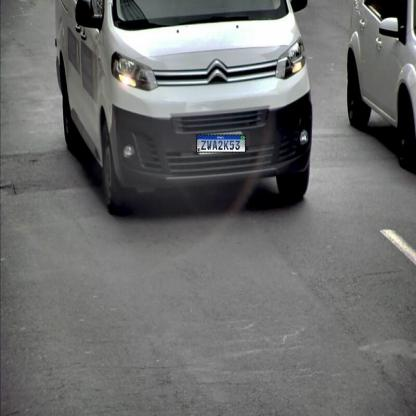PlacaM: (196, 134, 246, 152)
